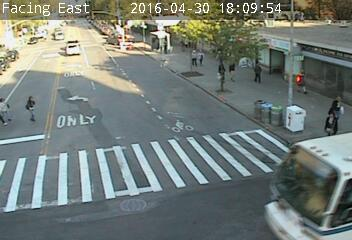neg: (159, 32, 174, 52), (138, 27, 149, 41)
pos: (18, 93, 40, 122), (320, 107, 340, 134), (294, 68, 313, 93), (330, 93, 349, 117), (248, 60, 266, 85), (225, 57, 242, 80), (215, 62, 229, 80), (187, 49, 200, 66), (195, 49, 207, 66)
